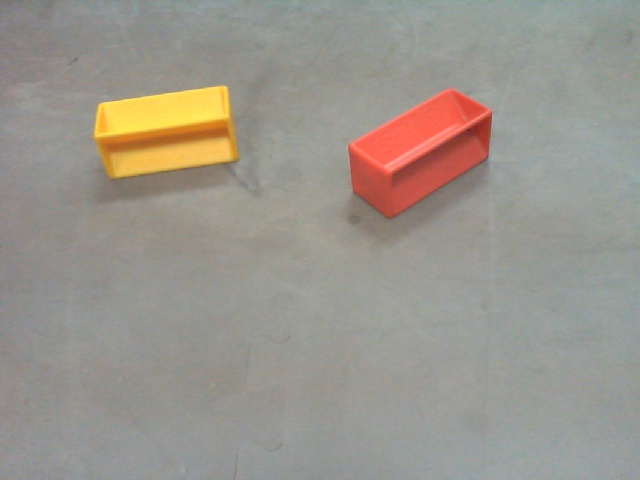RedSample: (346, 87, 492, 218)
YellowSample: (89, 84, 242, 180)
